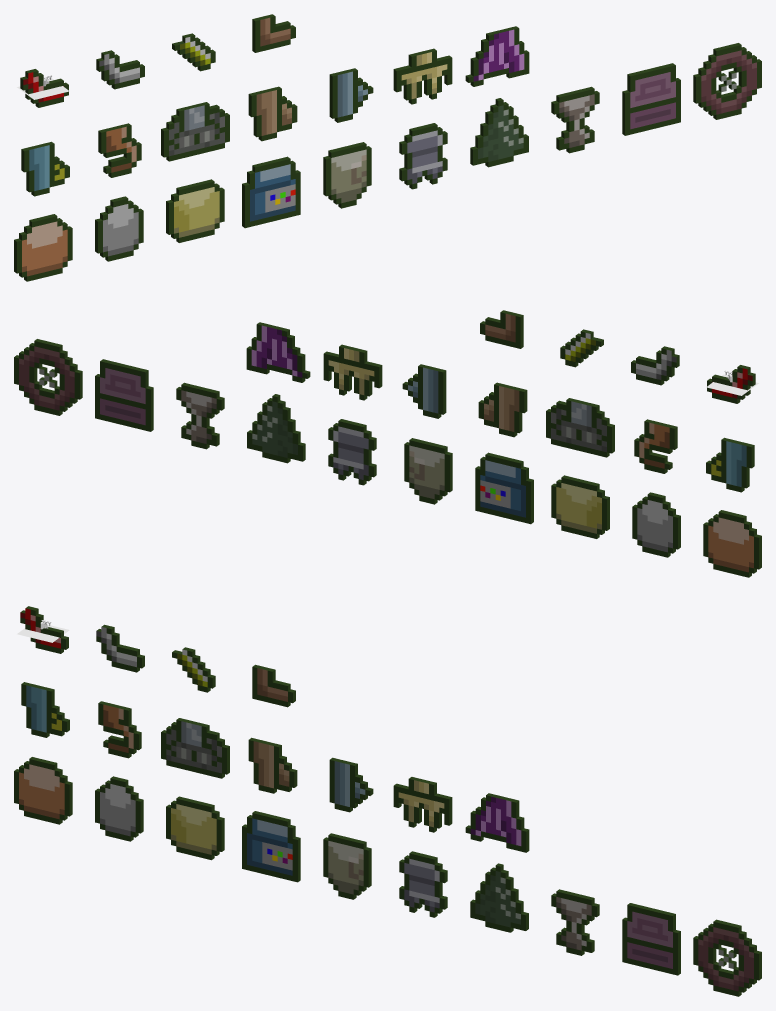
The model's file is ItemDrops.glb.
The picture shows the model from 3 angles, top to bottom: view 1: azimuth 30°, elevation 25°; view 2: azimuth 150°, elevation 25°; view 3: azimuth 330°, elevation 25°; orthographic projection.
Parts seen in each view (by area): view 1: TOR10, TOR09, TOR04, TOR01, LEG03, TOR03, TOR07, TOR05, LEG07, TOR02, TOR06, LEG06 (+9 smaller); view 2: TOR10, TOR09, TOR04, TOR01, LEG03, TOR03, TOR07, TOR05, LEG07, TOR02, TOR06, LEG06 (+9 smaller); view 3: TOR10, TOR09, TOR04, TOR01, LEG03, TOR03, TOR07, TOR05, LEG07, TOR02, TOR06, LEG06 (+9 smaller).
Part boxes in pixels (x1,y1,x2,y2): TOR10: (693, 43, 761, 119); TOR09: (622, 63, 680, 135); TOR04: (242, 156, 300, 228); TOR01: (14, 214, 72, 281); LEG03: (161, 102, 229, 161); TOR03: (166, 179, 224, 242); TOR07: (470, 98, 528, 167); TOR05: (323, 142, 371, 208); LEG07: (465, 26, 529, 86); TOR02: (95, 196, 143, 261); TOR06: (399, 123, 447, 189); LEG06: (393, 48, 452, 104); TOR10: (14, 339, 82, 415); TOR09: (95, 359, 153, 431); TOR04: (475, 452, 533, 524); TOR01: (703, 510, 761, 577); LEG03: (546, 398, 614, 457); TOR03: (551, 475, 609, 538); TOR07: (247, 394, 305, 463); TOR05: (404, 438, 452, 504); LEG07: (246, 322, 310, 382); TOR02: (632, 492, 680, 557); TOR06: (328, 419, 376, 485); LEG06: (323, 344, 382, 400); TOR10: (693, 919, 761, 996); TOR09: (622, 903, 680, 975); TOR04: (242, 811, 300, 882); TOR01: (14, 757, 72, 824); LEG03: (161, 718, 229, 778); TOR03: (166, 796, 224, 860); TOR07: (470, 863, 528, 932); TOR05: (323, 833, 371, 899); LEG07: (465, 793, 529, 852); TOR02: (95, 776, 143, 841); TOR06: (399, 851, 447, 917); LEG06: (393, 777, 452, 832).
Bounding box in the file's own units: 147 × 40.44 × 6.
6 materials, 3 textured.
